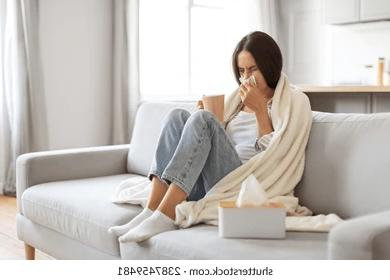blanket: (173, 69, 344, 233)
trousers: (149, 106, 240, 203)
vest: (223, 104, 272, 164)
